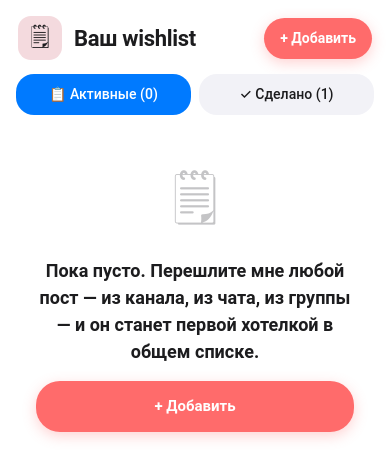
Scenario: Wishlist — archive action (Bundle A, Task 3) › archive action is also available on a done item (backend allows DONE→ARCHIVED)
Click the button "✓ Сделано (1)".
click(286, 94)  # box left=199, top=74, right=374, bottom=115
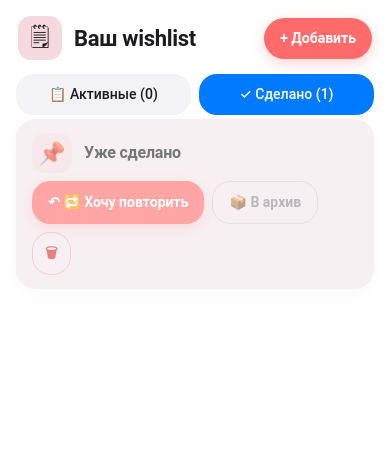
Expected: the button labelled "📦 В архив" is shown, left=212, top=181, right=318, bottom=224
